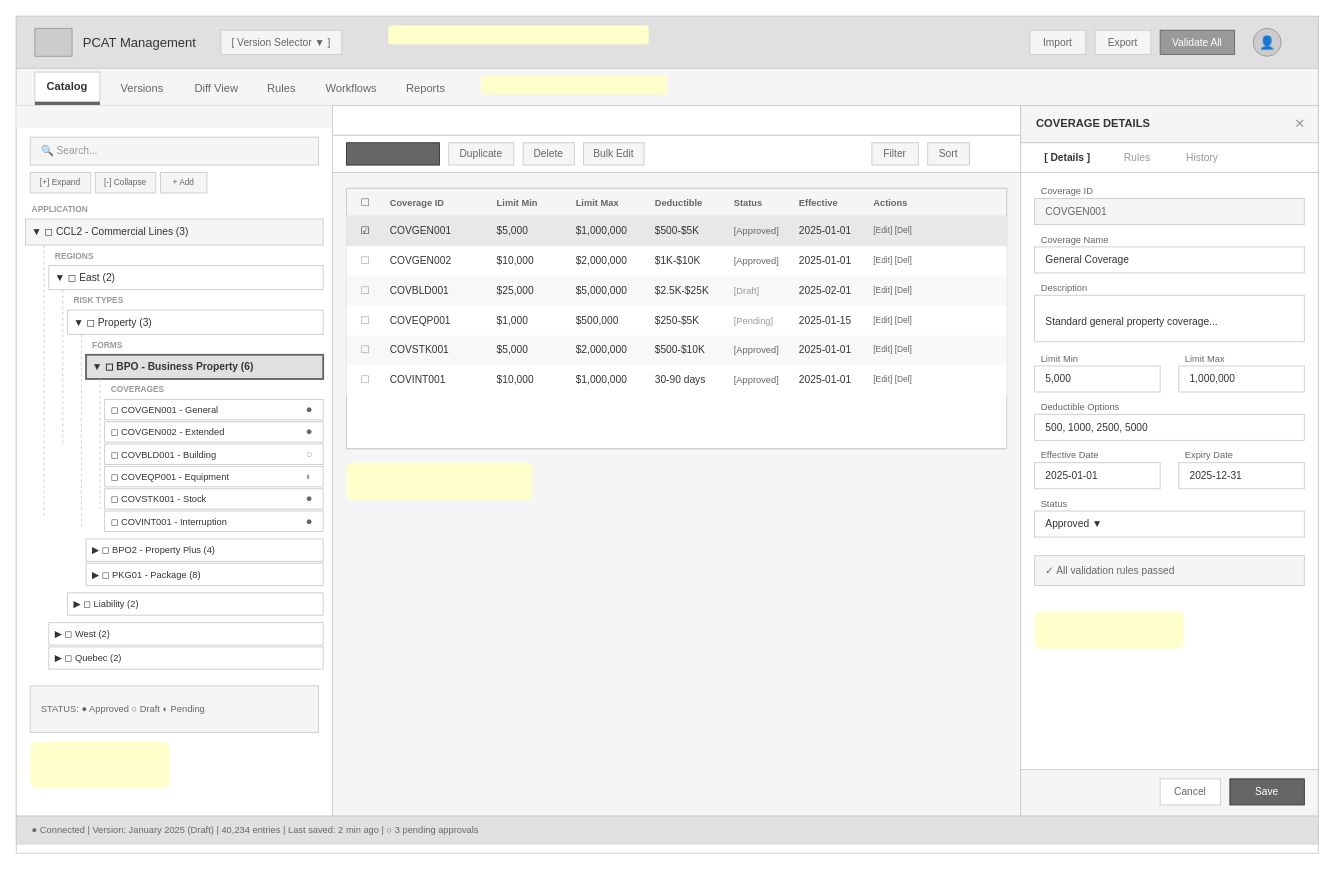
Some shapes in this 1335 by 870 pixel diagram are drawn without their labels. Each missing label, with the centre of its shape:
"+ Add Coverage" belongs at (x=392, y=153).
"CATALOG TREE" belongs at (x=174, y=116).
"CCL2 / East / Property / BPO - Business Property" belongs at (x=676, y=120).
"Data grid with sortable columns, row selection, and inline actions" belongs at (x=439, y=480).
"Detail panel with tabs, form fields, and validation" belongs at (x=1108, y=629).
"Header with logo, version selector, and action buttons" belongs at (x=518, y=34).
"Hierarchical tree view with expandable nodes and status indicators" belongs at (x=99, y=764).
"LOGO" belongs at (x=53, y=41).
"Navigation tabs for main sections" belongs at (x=574, y=84).
